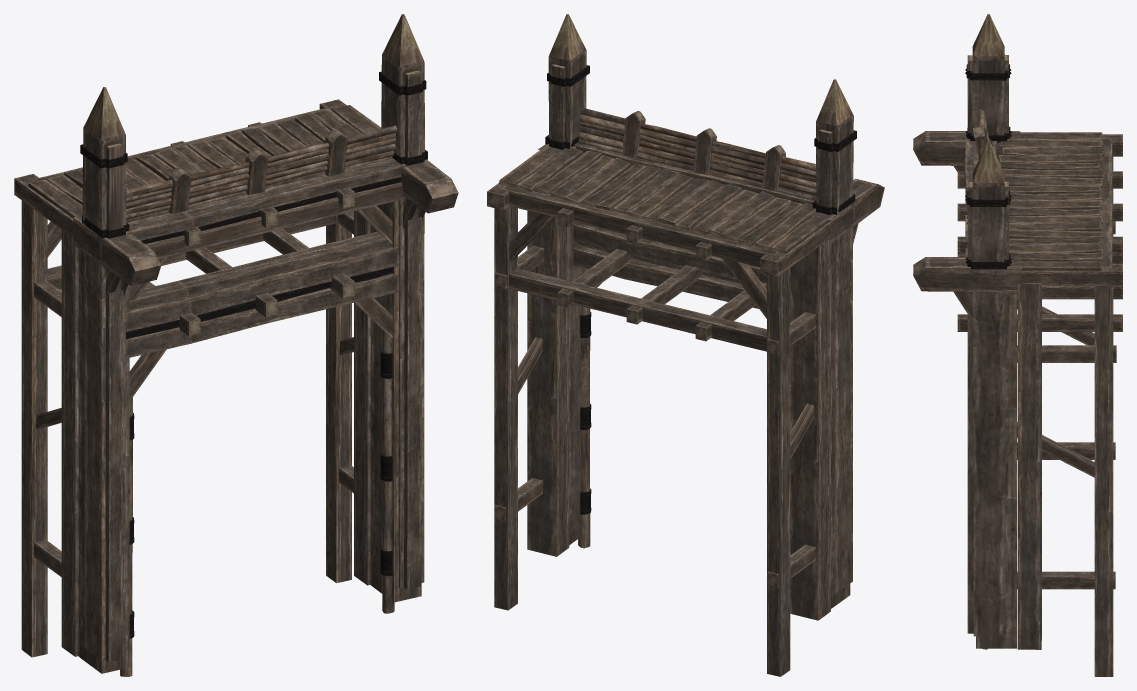
Rendered from jav_struc_def_truestone_gatea-transformed.glb.
The picture shows the model from 3 angles, left to right: view 1: azimuth 30°, elevation 25°; view 2: azimuth 150°, elevation 25°; view 3: azimuth 270°, elevation 25°; orthographic projection. The views are drawn at different scales.
Parts seen in each view (by area): view 1: default; view 2: default; view 3: default.
Part boxes in pixels (box(x1,y1,x2,y2)): default: box(14, 14, 458, 676); default: box(487, 14, 884, 676); default: box(913, 14, 1122, 676).
Bounding box in the file's own units: 8.21 × 14.57 × 5.21.
1 material, 1 textured.
